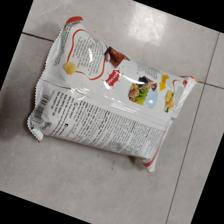Lays: (24, 12, 198, 177)
